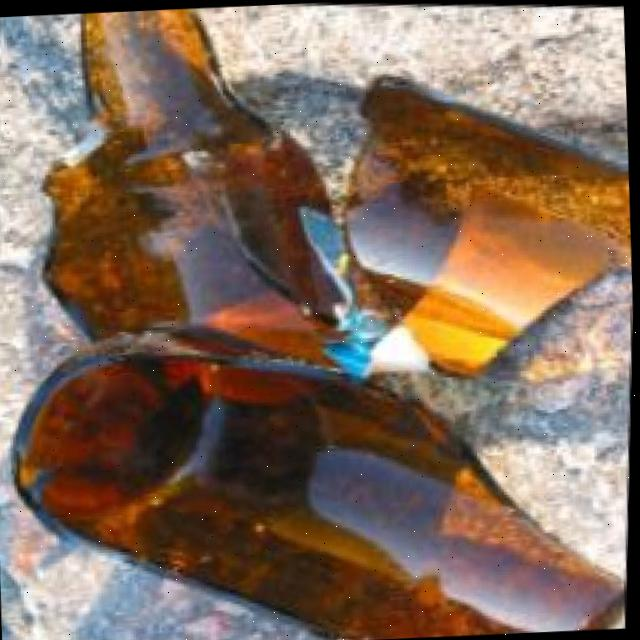Dry: (12, 320, 632, 640), (332, 59, 637, 382), (50, 0, 353, 312)
